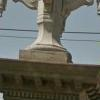Statue: (16, 0, 84, 69)
